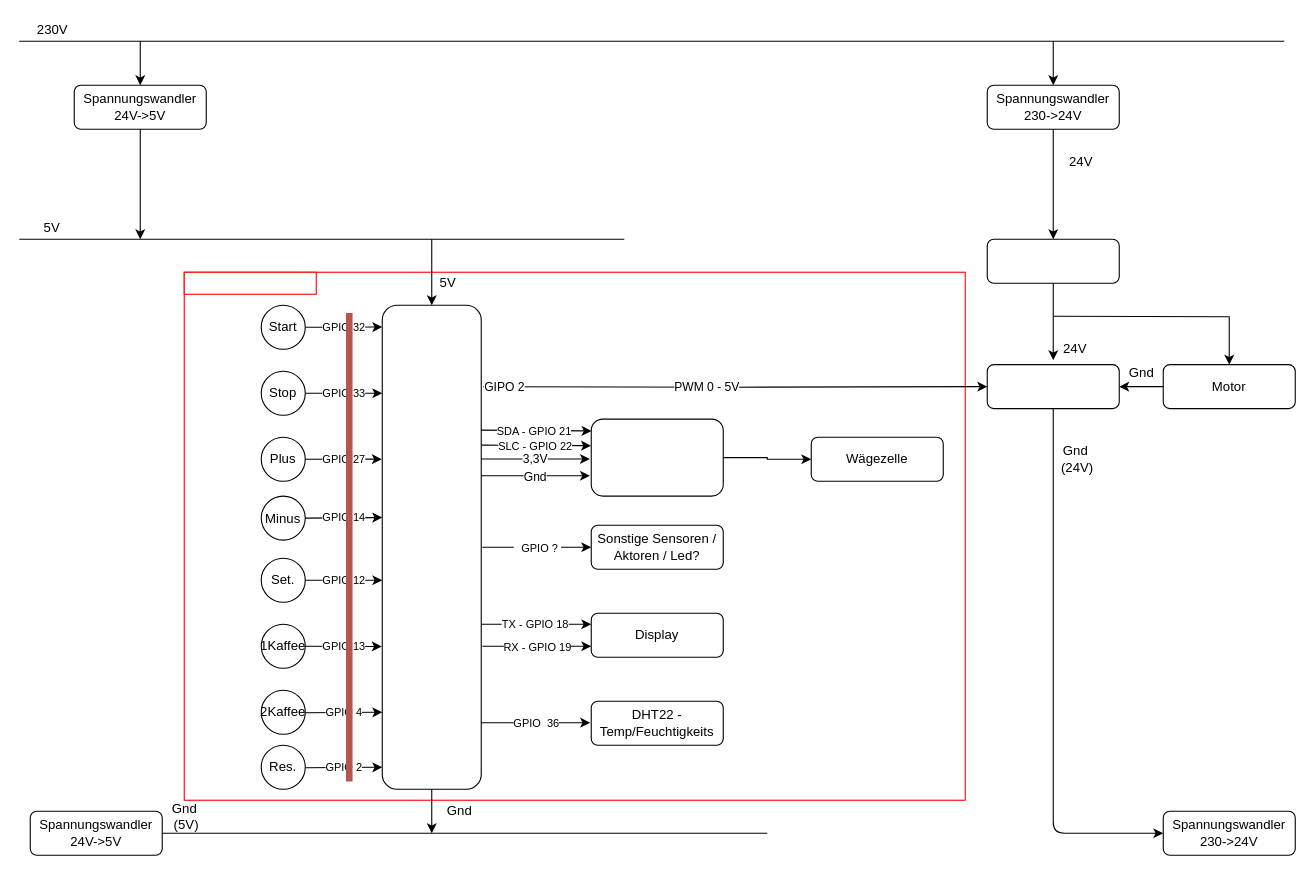
Image size: 1315x875. Some labels were removed from this diagram. The centre of each missing label's shape, as x and y in pixels:
Aruduino Mega2560: the point at 431,546
Leistungsregler: the point at 1052,386
Sicherung 20A: the point at 1052,260
SparkFun Qwiic Scale - NAU7802: the point at 656,457
Steuerstromkreis: the point at 249,282
